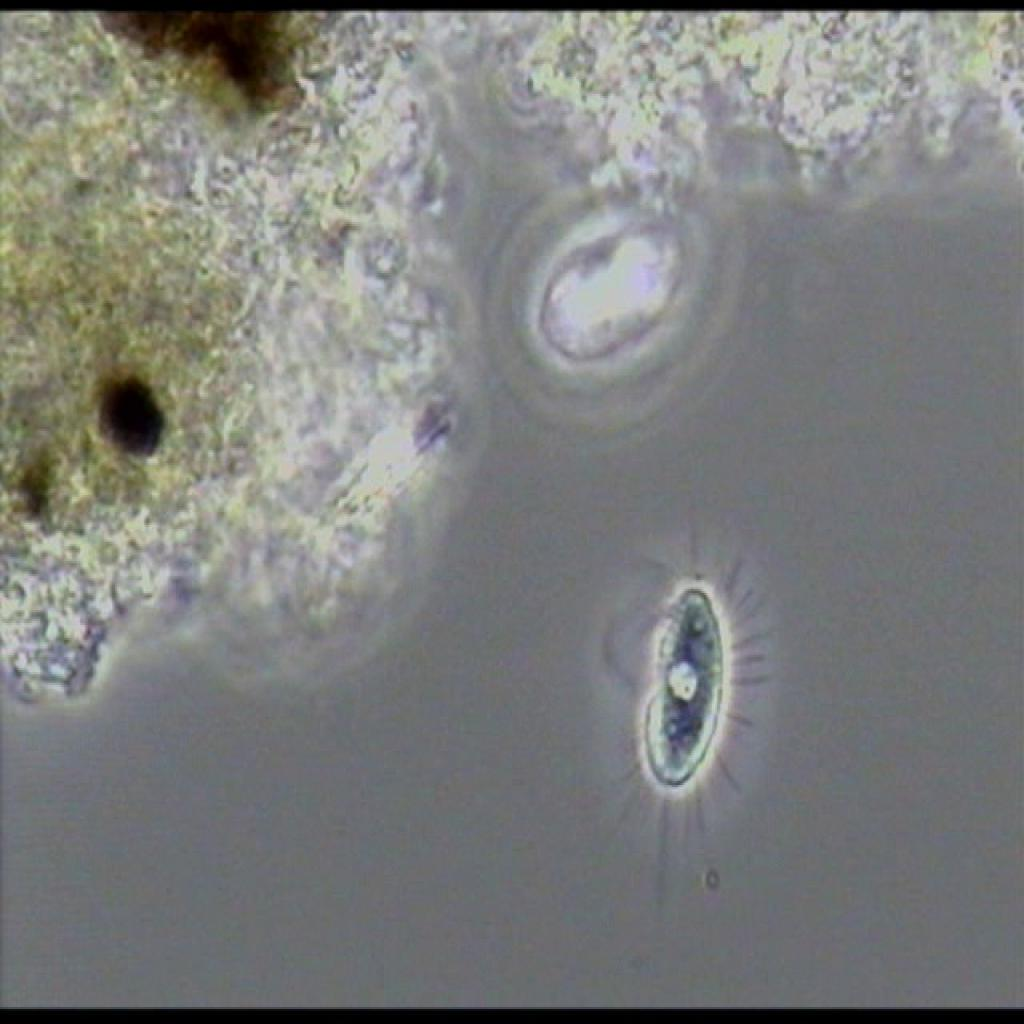Cyclidium: (570, 511, 784, 908)
